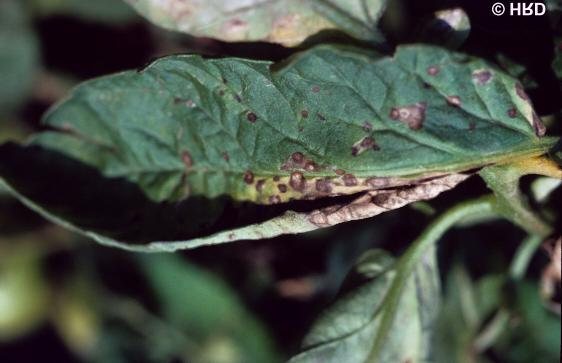Tomato Septoria leaf spot: (8, 38, 545, 258)
